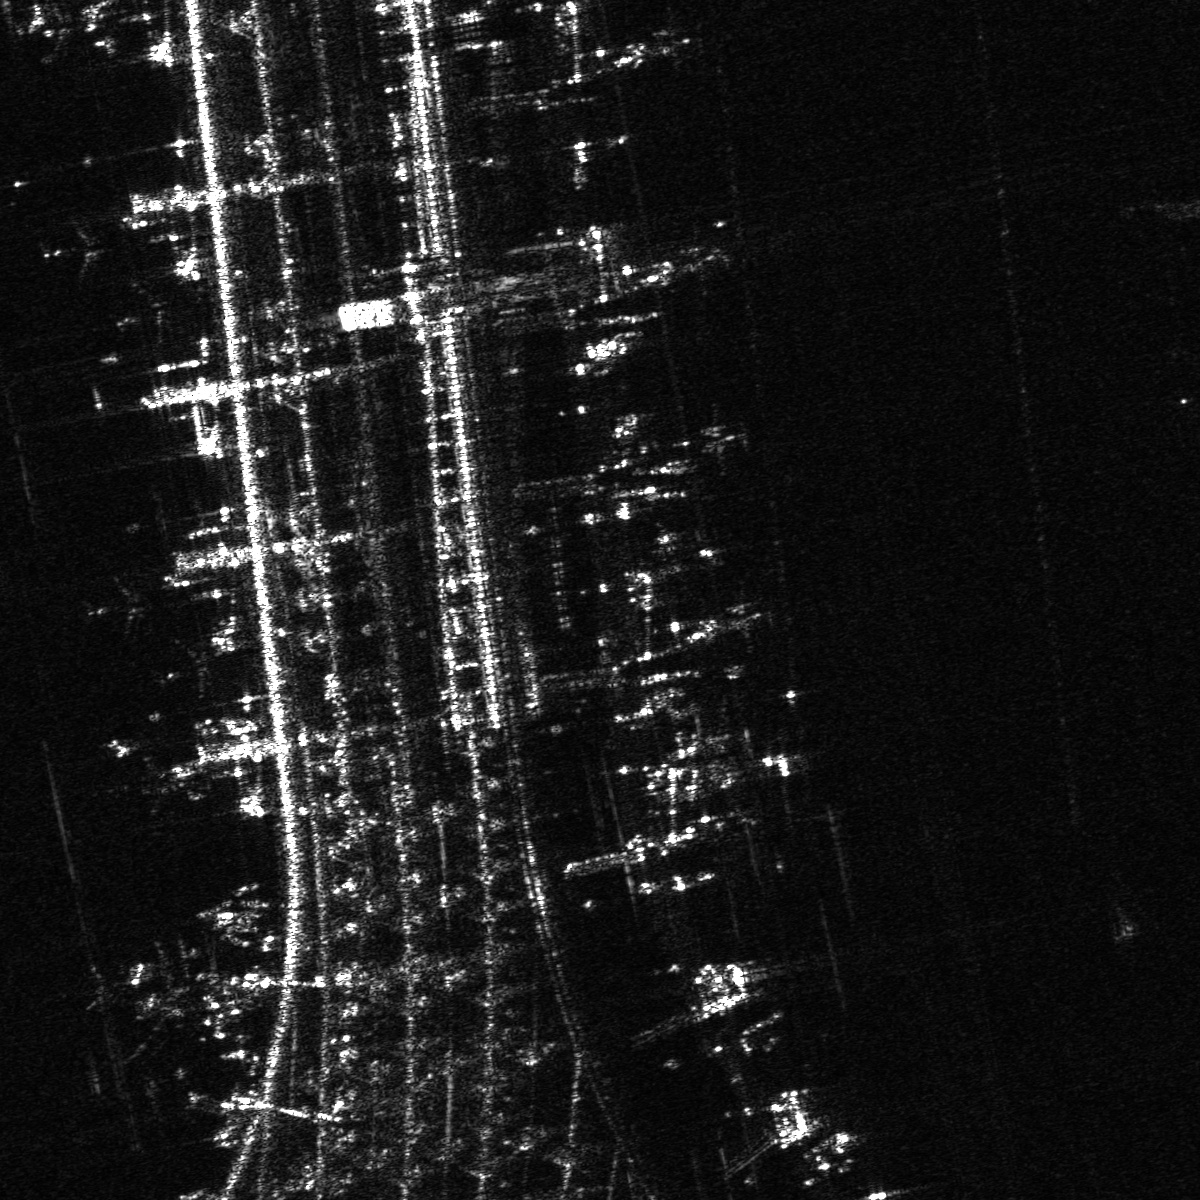Boeing787: (92, 937, 203, 1065), (43, 216, 123, 284), (88, 575, 155, 638), (114, 284, 184, 341), (162, 641, 221, 699)
